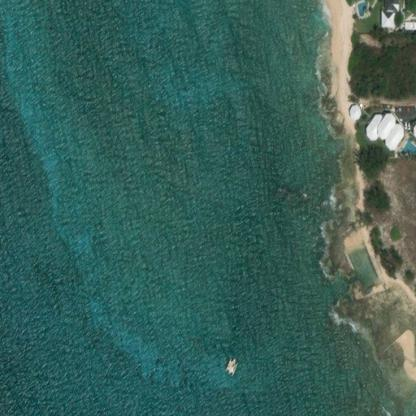ship: (224, 364, 237, 367)
